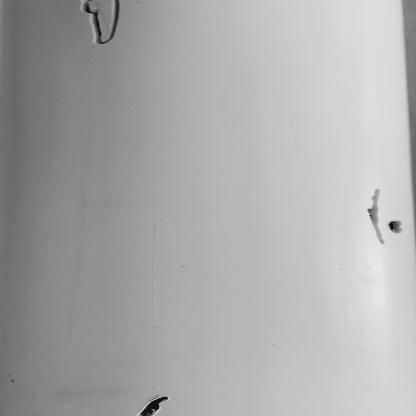fengxi: (74, 1, 130, 45)
kongdong: (361, 179, 389, 248), (128, 390, 178, 414), (380, 217, 408, 237)
